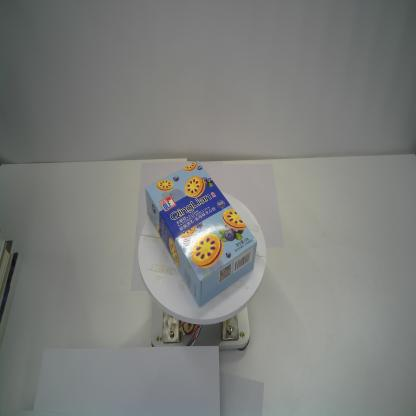Dessert: (145, 160, 258, 309)
